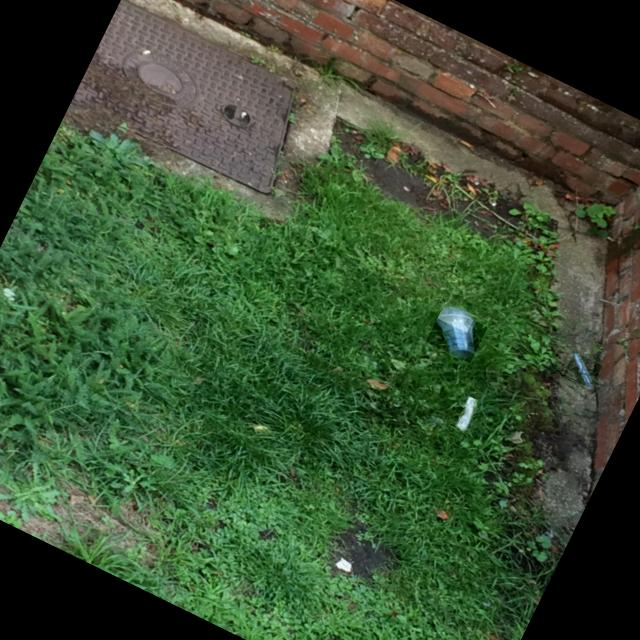Cigarette: (140, 52, 149, 55)
Cup: (436, 314, 475, 358)
Lid: (437, 307, 473, 320)
Other plastic bottle: (457, 397, 476, 430)
Unlabeled litter: (572, 353, 592, 388)
